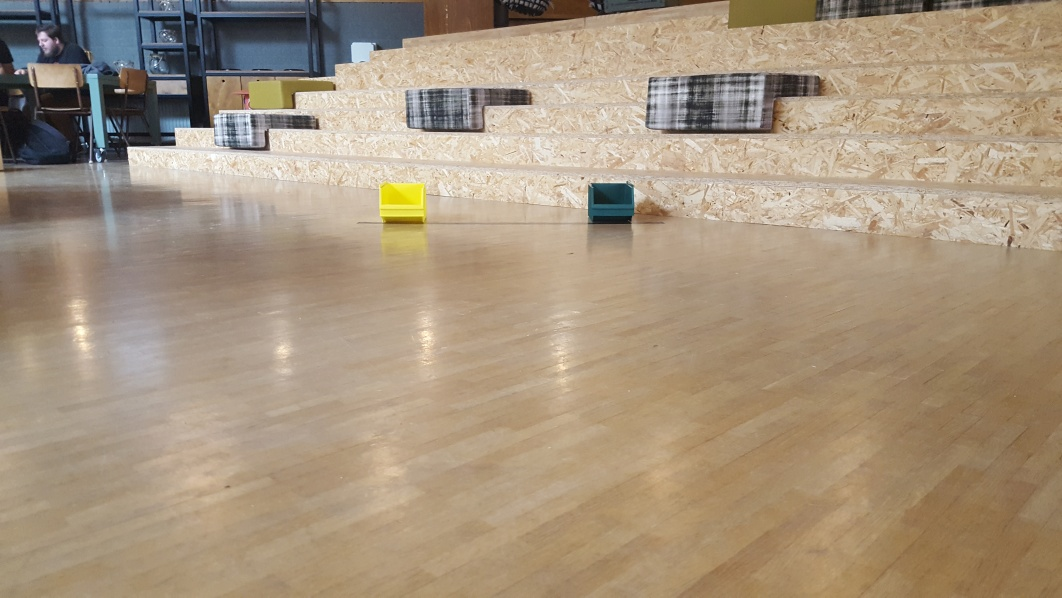tray: (584, 179, 636, 224), (378, 181, 428, 223)
